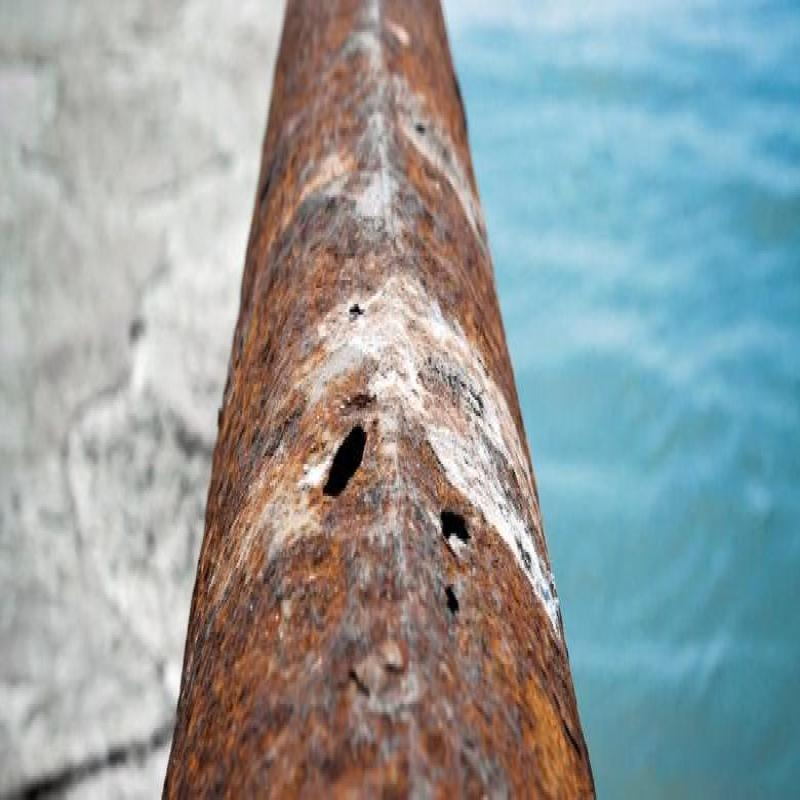Fracture: (318, 405, 369, 512), (440, 498, 475, 552)
